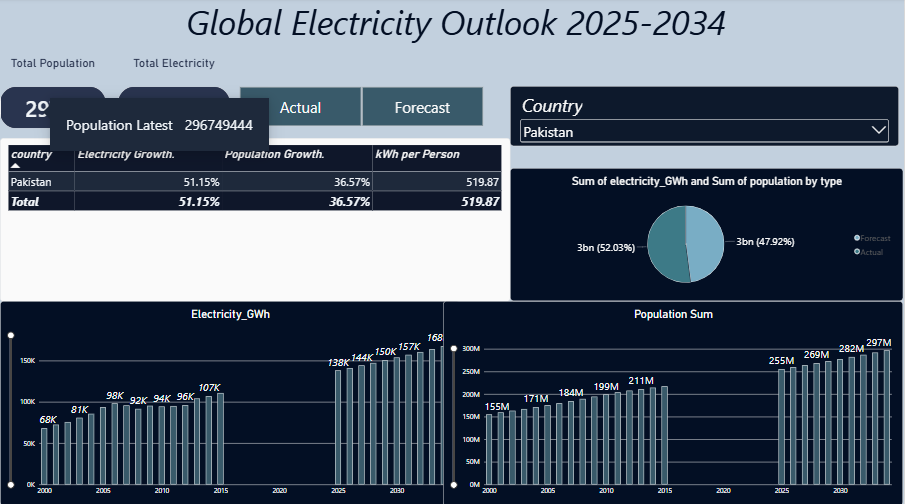

This screenshot's page, from the dashboard's own definition file:
{"tool":"powerbi","page":{"name":"Page 1","canvas":[1920,1080],"ordinal":0},"visuals":[{"type":"tableEx","fields":{"Values":["powerb!_final.country","powerb!_final.Electricity Growth.","powerb!_final.Population Growth.","powerb!_final.kWh per Person"]},"box":[0,297.5,1085,347.5],"z":0},{"type":"slicer","title":"TYY","fields":{"Values":["powerb!_final.country"]},"box":[1084.3,187.1,827,127.6],"z":1000},{"type":"lineStackedColumnComboChart","title":" Electricity_GWh","fields":{"Category":["powerb!_final.year"],"Y":["Sum(powerb!_final.electricity_GWh)"]},"box":[0,645,977.5,435],"z":2000},{"type":"lineStackedColumnComboChart","title":"Population Sum","fields":{"Category":["powerb!_final.year"],"Y":["Sum(powerb!_final.population)"]},"box":[942.5,645,977.5,435],"z":3000},{"type":"textbox","box":[20,0,1900,97.5],"z":4000},{"type":"cardVisual","title":"Total Population","fields":{"Data":["powerb!_final.Population Latest"]},"box":[0,123.3,225.4,174.3],"z":5000},{"type":"cardVisual","title":"Total Electricity","fields":{"Data":["powerb!_final.Electricity Latest"]},"box":[250.9,123.3,238.1,174.3],"z":6000},{"type":"slicer","fields":{"Values":["powerb!_final.type"]},"box":[489,187.1,557,87.2],"z":7000},{"type":"pieChart","fields":{"Category":["powerb!_final.type"],"Y":["Sum(powerb!_final.electricity_GWh)","Sum(powerb!_final.population)"]},"box":[1084.3,361.4,835.5,282.8],"z":8000}]}

Visuals, with their boxes in screenshot pixels (x1, y1, x2, y2), scaled from the page's 1920x1080 canvas onto the 905x504 screenshot:
tableEx - powerb!_final.country x powerb!_final.Electricity Growth.: l=0, t=139, r=511, b=301
"TYY" slicer: l=511, t=87, r=901, b=147
" Electricity_GWh" lineStackedColumnComboChart: l=0, t=301, r=461, b=503
"Population Sum" lineStackedColumnComboChart: l=444, t=301, r=904, b=503
textbox: l=9, t=0, r=904, b=46
"Total Population" cardVisual: l=0, t=58, r=106, b=139
"Total Electricity" cardVisual: l=118, t=58, r=230, b=139
slicer - powerb!_final.type: l=230, t=87, r=493, b=128
pieChart - powerb!_final.type x Sum(powerb!_final.electricity_GWh): l=511, t=169, r=904, b=301
